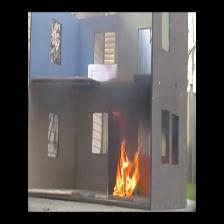fire: (114, 146, 137, 198)
